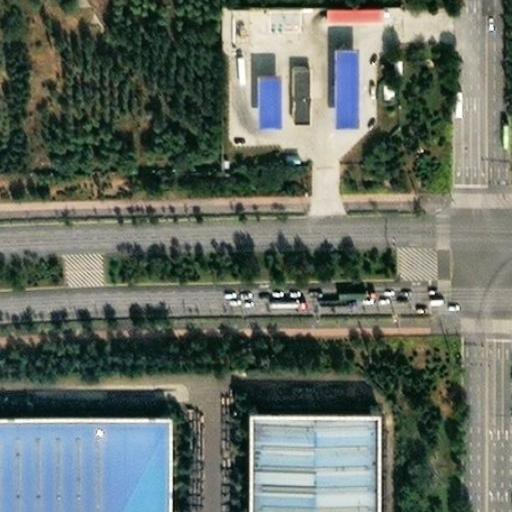building: (229, 400, 359, 512), (318, 35, 340, 111), (242, 61, 265, 110), (280, 56, 295, 112), (312, 0, 371, 9), (389, 52, 405, 74)
